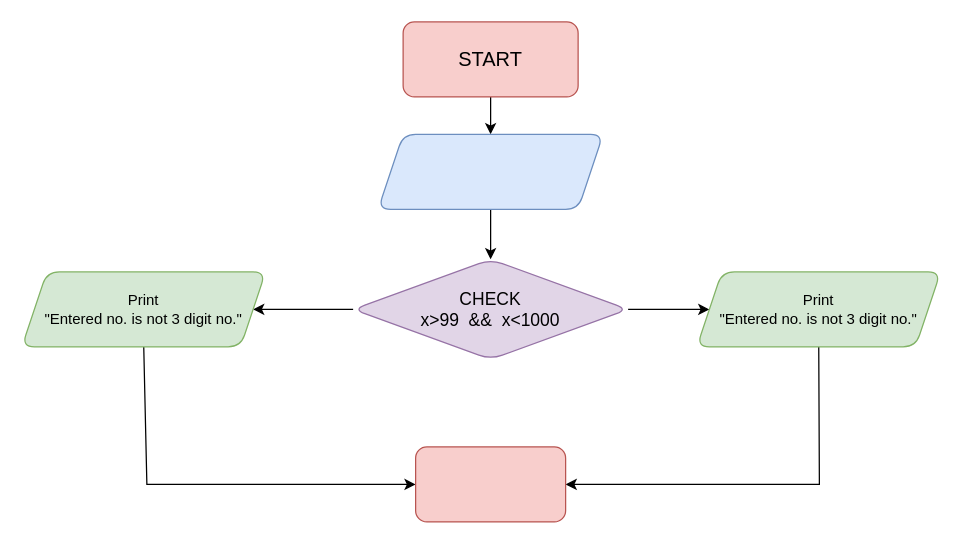
This 963x544 diagram has some shape labels left out. The shapes that lost their labels are listed below. From the top down, each one's centre as x and y in pixels, then its label:
[490,171]: INPUT 3 digits
[490,484]: END
